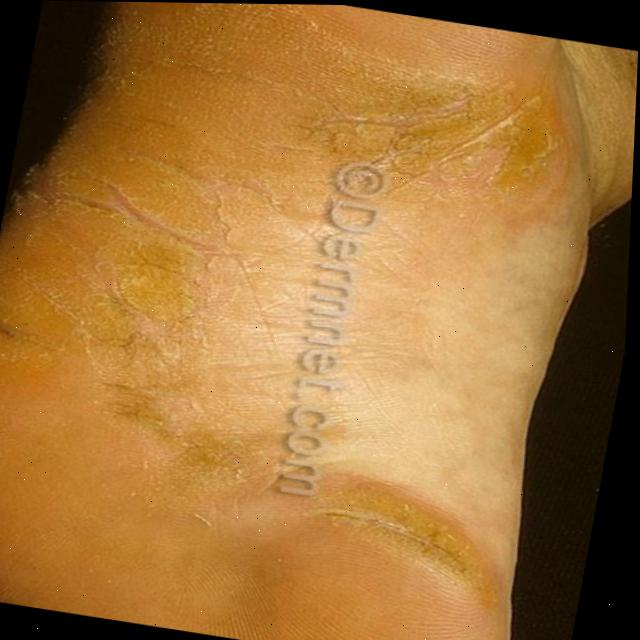Eczema: (52, 4, 547, 566)
